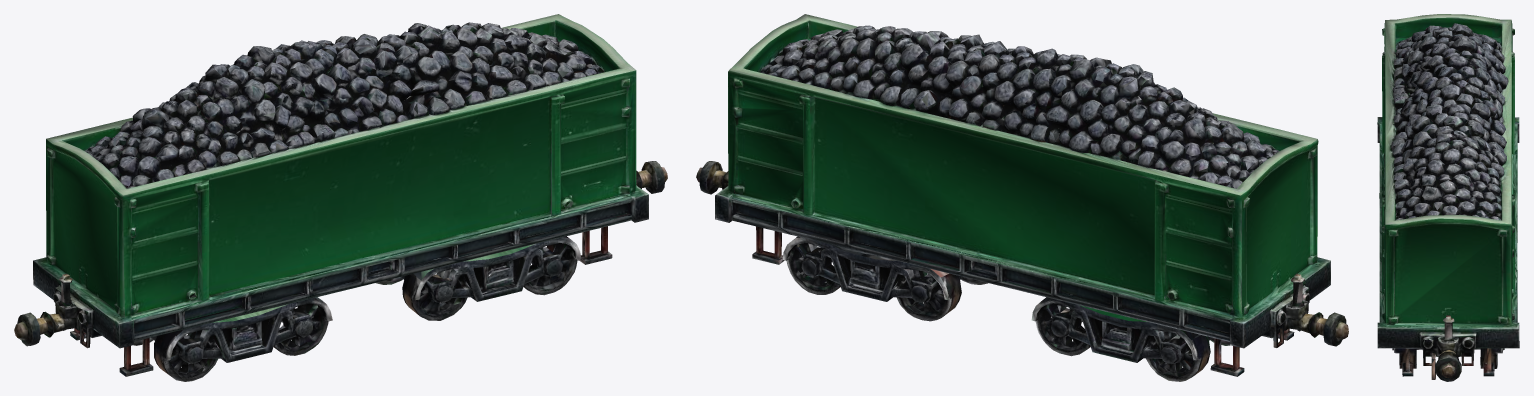
File: tender.glb
3 views of the same model, side by side, from view 1: azimuth 30°, elevation 25°; view 2: azimuth 150°, elevation 25°; view 3: azimuth 270°, elevation 25° (orthographic). The views are drawn at different scales.
Visible parts, largest first — view 1: tender; view 2: tender; view 3: tender.
Part boxes in pixels (bbox=[...]): tender: bbox=[14, 14, 667, 381]; tender: bbox=[696, 14, 1348, 381]; tender: bbox=[1377, 14, 1519, 381].
Size of the model in its own units: 2.42 by 1 by 0.5594.
1 material, 1 textured.
